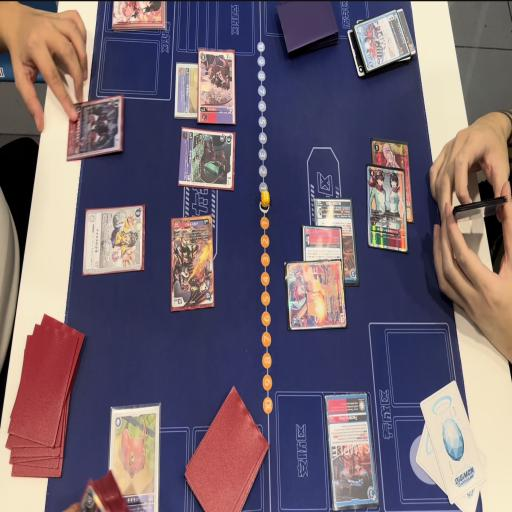card: (324, 388, 377, 512), (109, 401, 162, 512), (284, 256, 346, 337), (81, 204, 148, 278), (168, 213, 216, 314), (312, 189, 360, 287), (64, 92, 126, 164), (371, 132, 414, 228), (177, 128, 238, 191), (355, 9, 408, 76), (301, 222, 347, 298), (366, 168, 407, 249), (198, 45, 237, 125), (173, 62, 203, 121)
